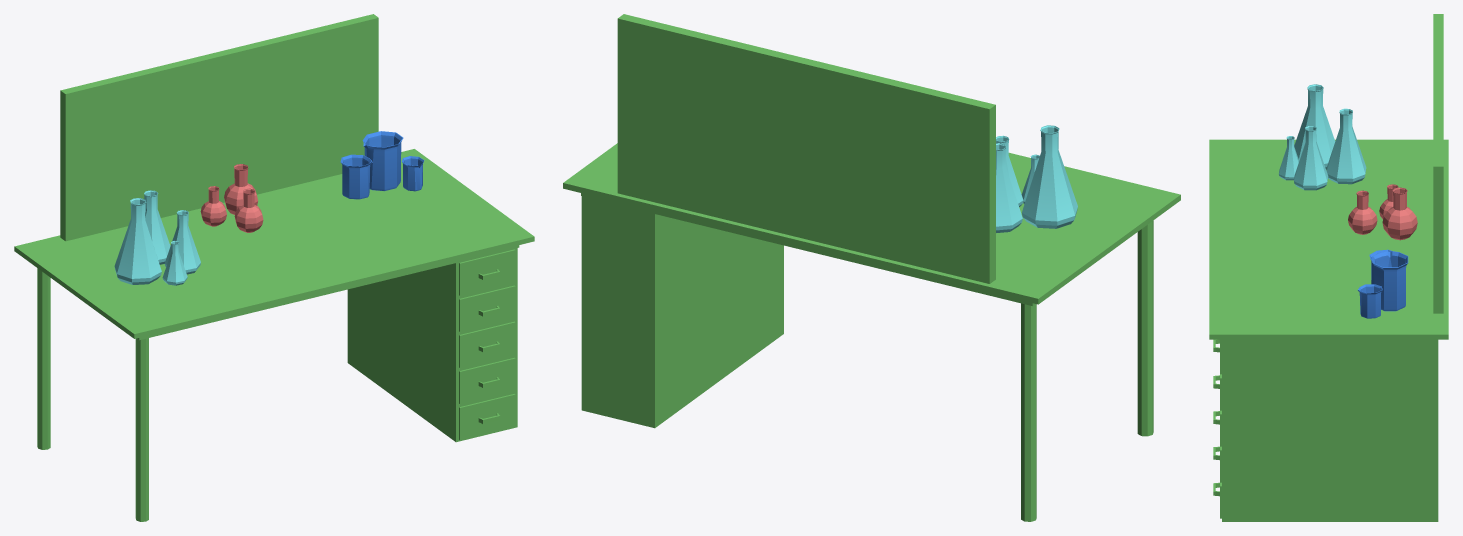
Rendered from Crafting_Table.fbx.
3 renders of one model, left to right at view 1: azimuth 30°, elevation 25°; view 2: azimuth 150°, elevation 25°; view 3: azimuth 270°, elevation 25°, orthographic. The views are drawn at different scales.
Parts seen in each view (by area): view 1: Crafting Table; view 2: Crafting Table; view 3: Crafting Table.
Part boxes in pixels (bbox=[...]): Crafting Table: bbox=[14, 14, 534, 521]; Crafting Table: bbox=[563, 14, 1180, 521]; Crafting Table: bbox=[1209, 14, 1448, 521].
Bounding box in the file's own units: 801 × 659 × 416.
